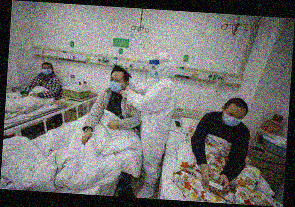with_mask: (223, 110, 245, 127), (108, 75, 124, 94), (148, 65, 159, 81), (41, 65, 52, 75)
